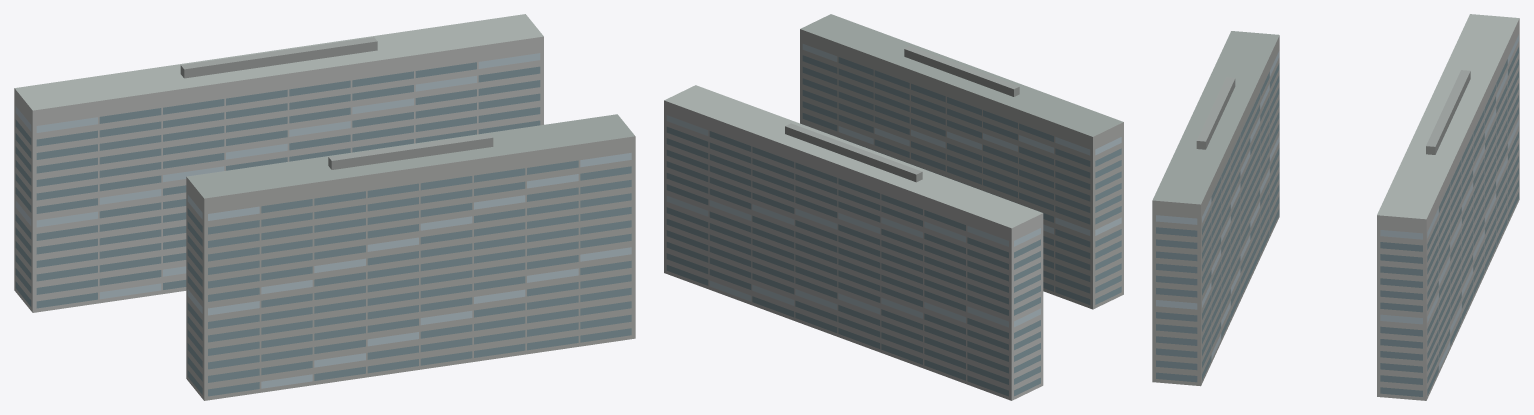
The model's file is apt-a15009607.glb.
3 views of the same model, side by side, from view 1: azimuth 30°, elevation 25°; view 2: azimuth 150°, elevation 25°; view 3: azimuth 270°, elevation 25° (orthographic). The views are drawn at different scales.
Visible parts, largest first — view 1: apt-a15009607; view 2: apt-a15009607; view 3: apt-a15009607.
Part boxes in pixels (box(x1,y1,x2,y2)): apt-a15009607: box(14, 14, 635, 400); apt-a15009607: box(664, 14, 1123, 400); apt-a15009607: box(1152, 14, 1519, 400).
Size of the model in its own units: 111 by 47.81 by 83.82.
